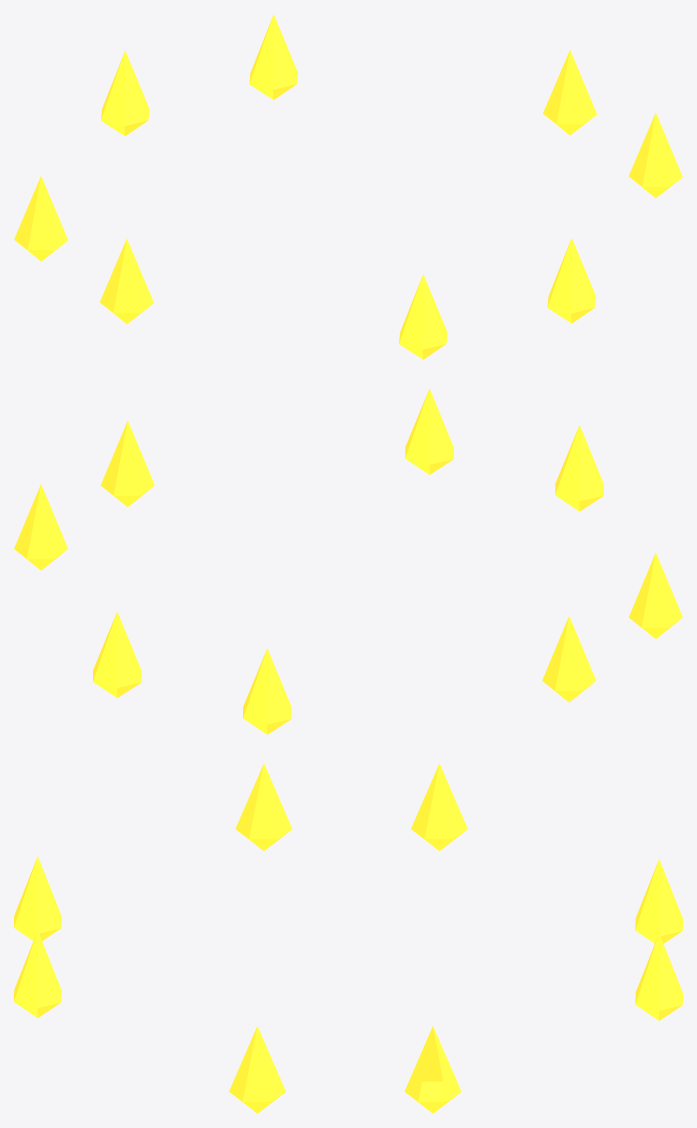
File: CandleLight_ChC_02.fbx
3 renders of one model, top to bottom at view 1: azimuth 30°, elevation 25°; view 2: azimuth 150°, elevation 25°; view 3: azimuth 270°, elevation 25°, orthographic. The views are drawn at different scales.
Parts seen in each view (by area): view 1: CandleLight_ChC_02; view 2: CandleLight_ChC_02; view 3: CandleLight_ChC_02.
Part boxes in pixels (box(x1,y1,x2,y2)): CandleLight_ChC_02: box(14, 14, 682, 359); CandleLight_ChC_02: box(14, 388, 682, 734); CandleLight_ChC_02: box(14, 763, 682, 1113).
Size of the model in its own units: 252 by 36.59 by 252.
